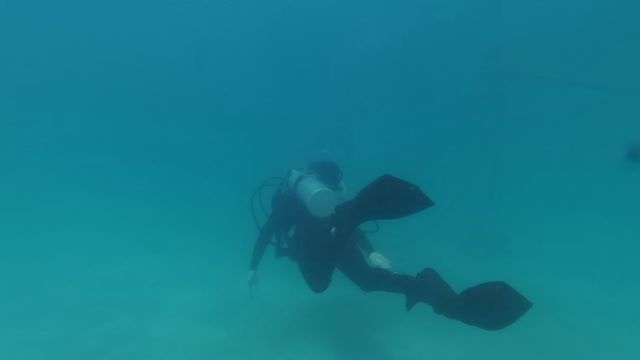Diver: (241, 158, 531, 337)
